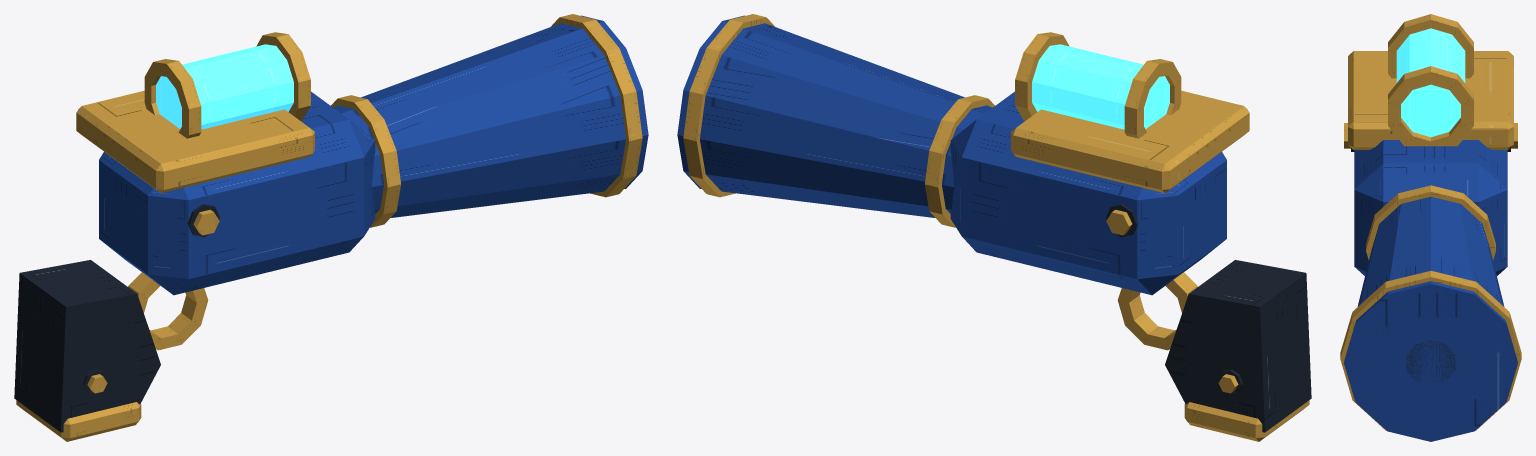
File: pulsar.glb
3 views of the same model, side by side, from view 1: azimuth 30°, elevation 25°; view 2: azimuth 150°, elevation 25°; view 3: azimuth 270°, elevation 25° (orthographic). The views are drawn at different scales.
Parts seen in each view (by area): view 1: body, barrel, grip, core; view 2: body, barrel, grip, core; view 3: barrel, body, core.
Boxes of the visible parts, <box> form: body: <box>76,90,375,350</box>; barrel: <box>331,14,648,227</box>; grip: <box>14,260,160,441</box>; core: <box>144,32,310,138</box>; body: <box>950,90,1249,350</box>; barrel: <box>677,14,994,227</box>; grip: <box>1165,260,1311,441</box>; core: <box>1015,32,1181,138</box>; barrel: <box>1340,185,1521,441</box>; body: <box>1344,51,1517,275</box>; core: <box>1388,14,1473,146</box>.
Bounding box in the file's own units: 0.548 × 0.307 × 0.156.
4 materials, 4 textured.
